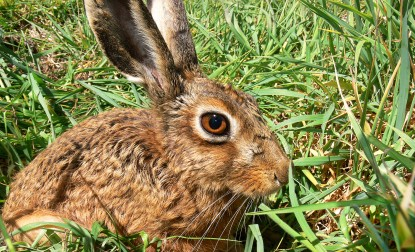bunny: (1, 2, 306, 251)
